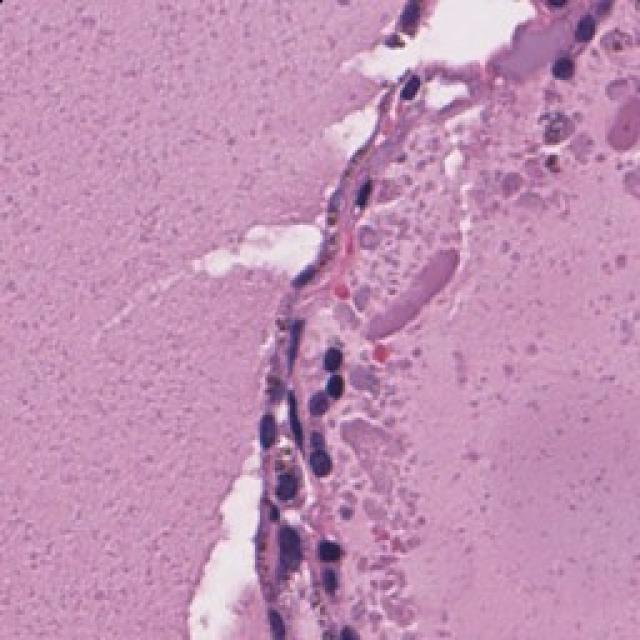normal: (252, 507, 337, 593), (541, 35, 610, 113), (247, 455, 324, 517), (229, 403, 299, 460)
